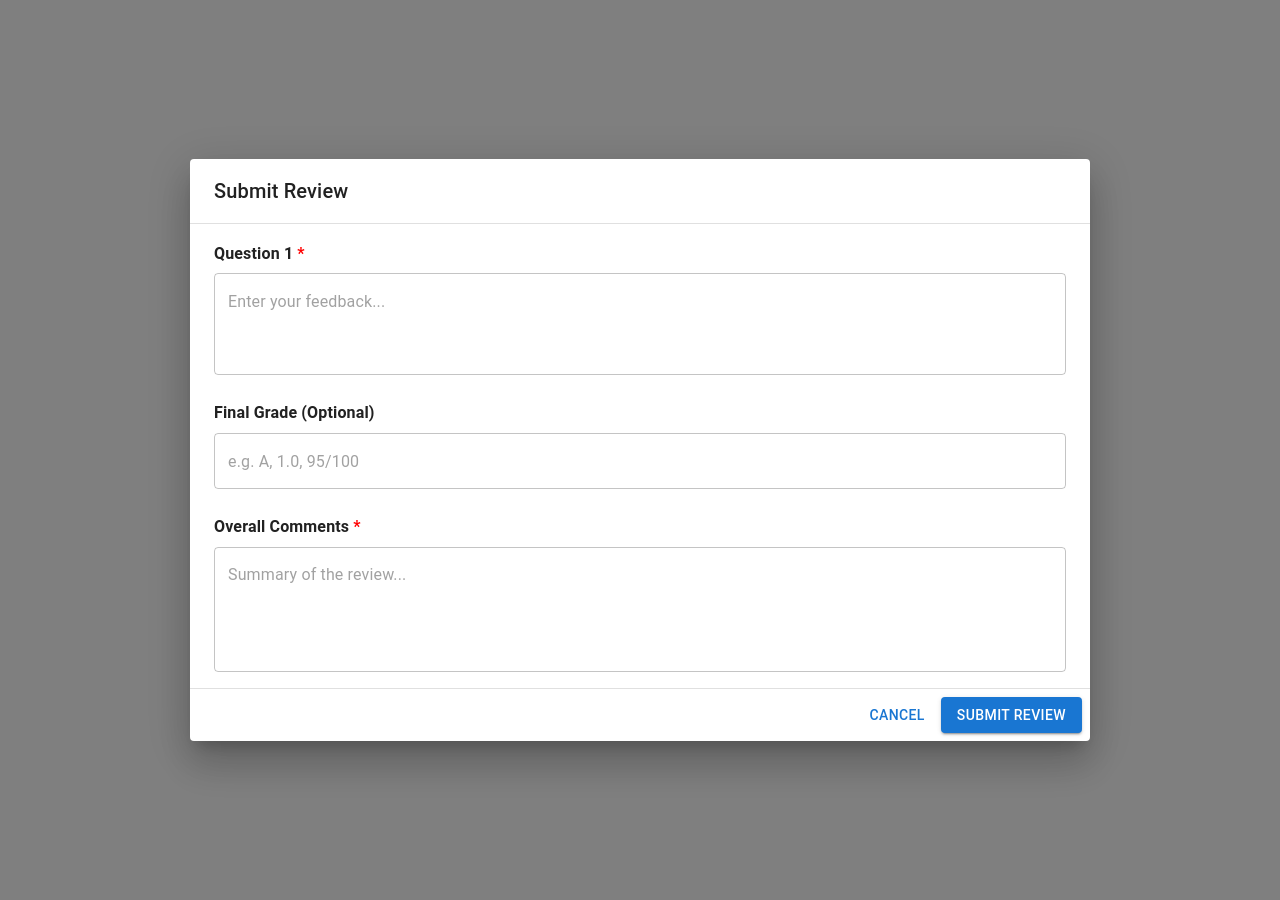
it: ReviewFormModal component › shows error if submission fails required validation
The width and height of the screenshot is (1280, 900).
Expected: the heading "Question 1 *" is shown, 214,244 -> 305,263
Click the button "Submit Review".
click(1011, 715)  # box 941,697 -> 1082,733
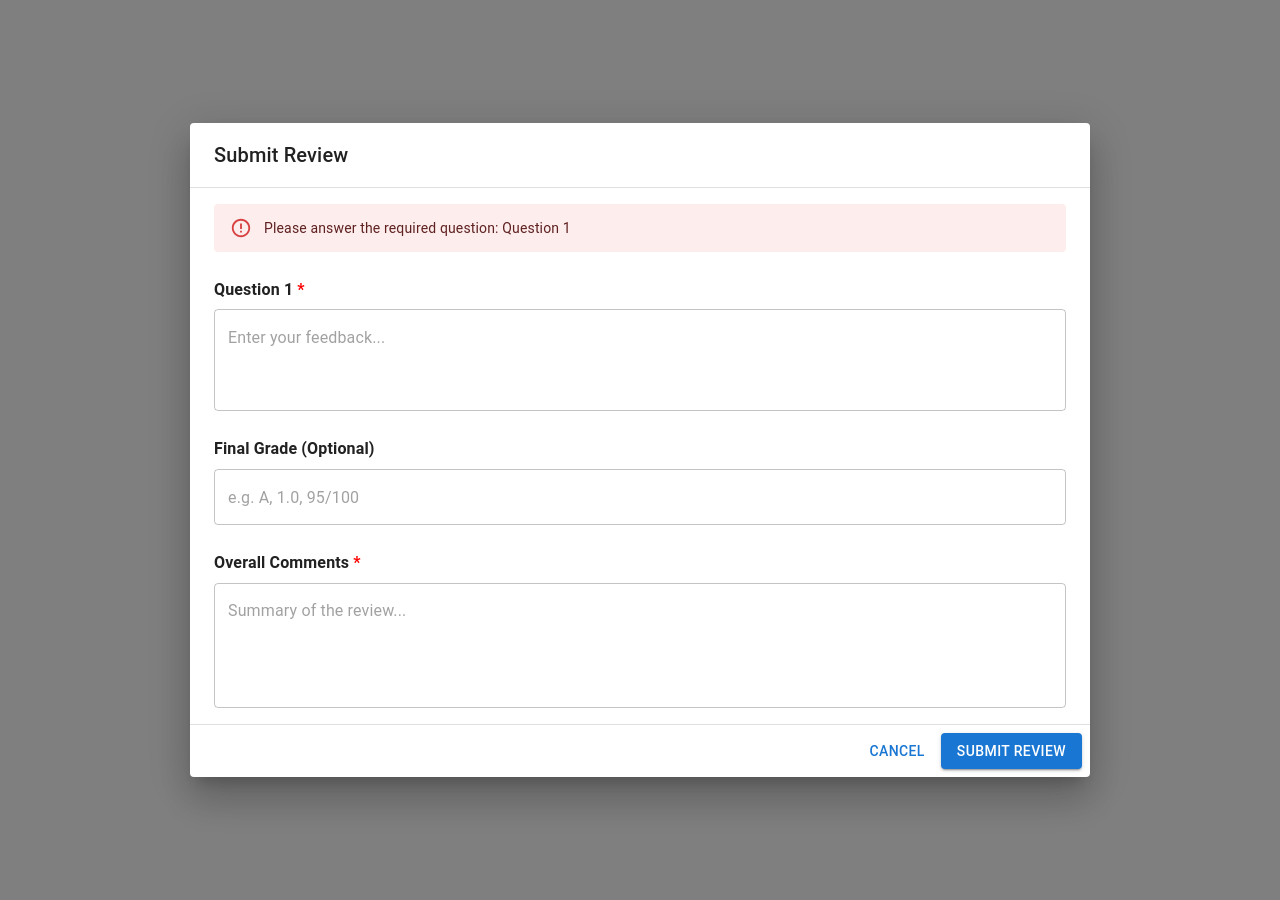
Now the text "Please answer the required question: Question 1" is shown, box 264,220 -> 571,236
